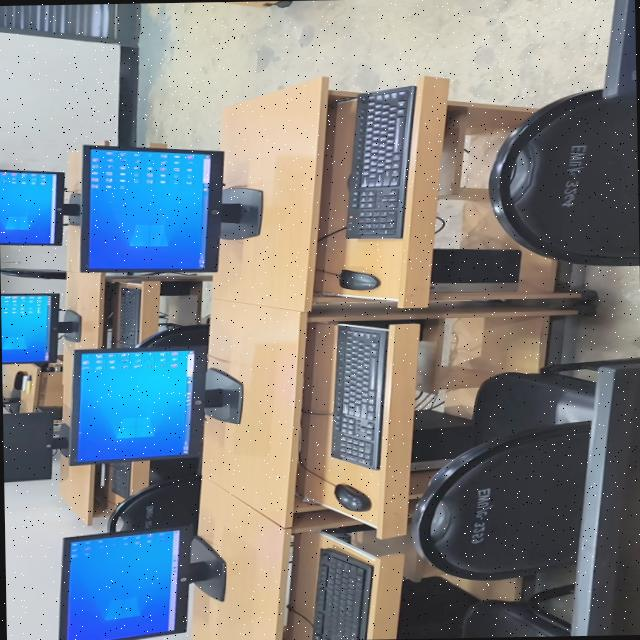Chair: (411, 357, 640, 579), (488, 89, 639, 266), (461, 584, 573, 638), (107, 477, 198, 534), (135, 320, 206, 347), (0, 267, 65, 279)
Cpu: (396, 576, 477, 639), (409, 409, 473, 471), (430, 248, 520, 292)
Keyboard: (345, 86, 414, 238), (330, 324, 386, 469), (312, 548, 372, 640), (115, 288, 140, 347), (106, 463, 131, 498)
Monitor: (79, 145, 261, 273), (67, 346, 241, 465), (570, 361, 640, 636), (58, 526, 224, 640), (0, 170, 79, 244), (0, 293, 80, 363), (2, 411, 67, 482), (602, 0, 636, 100), (1, 396, 16, 404)
Mouse: (333, 483, 370, 511), (337, 269, 378, 290)
